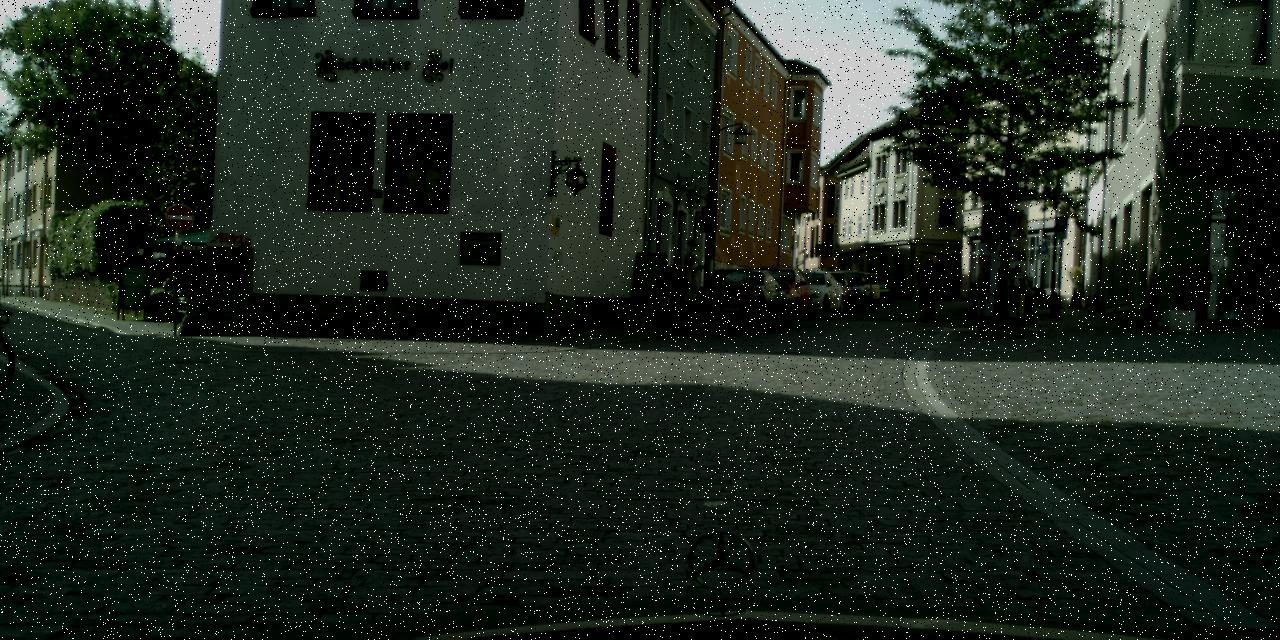ped: (663, 255, 690, 321), (918, 257, 938, 309)
